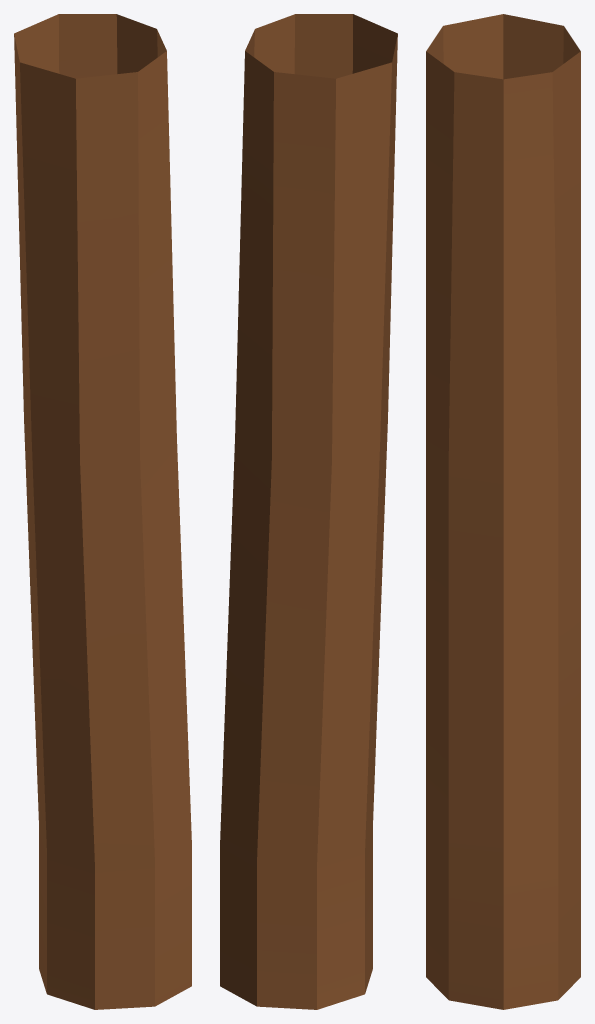
The model's file is tree_miki_A.fbx.
The picture shows the model from 3 angles, left to right: view 1: azimuth 30°, elevation 25°; view 2: azimuth 150°, elevation 25°; view 3: azimuth 270°, elevation 25°; orthographic projection. The views are drawn at different scales.
Parts seen in each view (by area): view 1: tree_miki_A; view 2: tree_miki_A; view 3: tree_miki_A.
Part boxes in pixels (box(x1,y1,x2,y2)): tree_miki_A: box(14, 14, 191, 1009); tree_miki_A: box(220, 14, 397, 1009); tree_miki_A: box(426, 14, 580, 1009).
Size of the model in its own units: 9.1 by 49.72 by 7.6.
